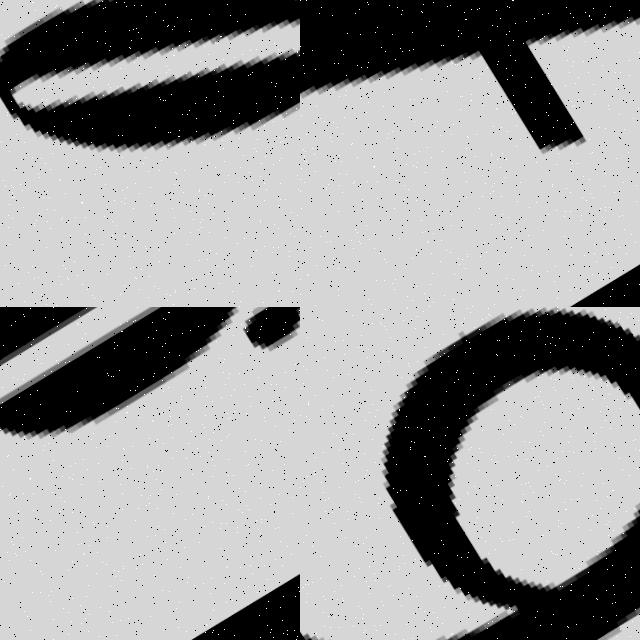9: (300, 307, 640, 640)
G: (0, 307, 300, 640), (0, 0, 300, 307)
T: (300, 0, 640, 307)
